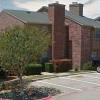Chimney: (67, 1, 89, 18)
